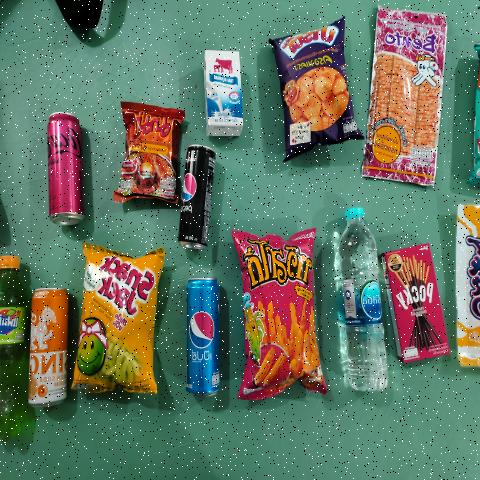bento_red: (374, 13, 447, 174)
coke_red: (48, 112, 82, 218)
crystal: (339, 205, 383, 401)
mama: (124, 110, 174, 193)
party_purple: (281, 22, 342, 150)
pepsi_black: (179, 146, 211, 247)
pepsi_blue: (185, 272, 221, 404)
pokki: (386, 238, 446, 368)
singha_yellow: (27, 288, 64, 407)
snack_jack: (84, 255, 150, 378)
thai_denmark: (209, 51, 243, 131)
twisco: (248, 231, 312, 393)
